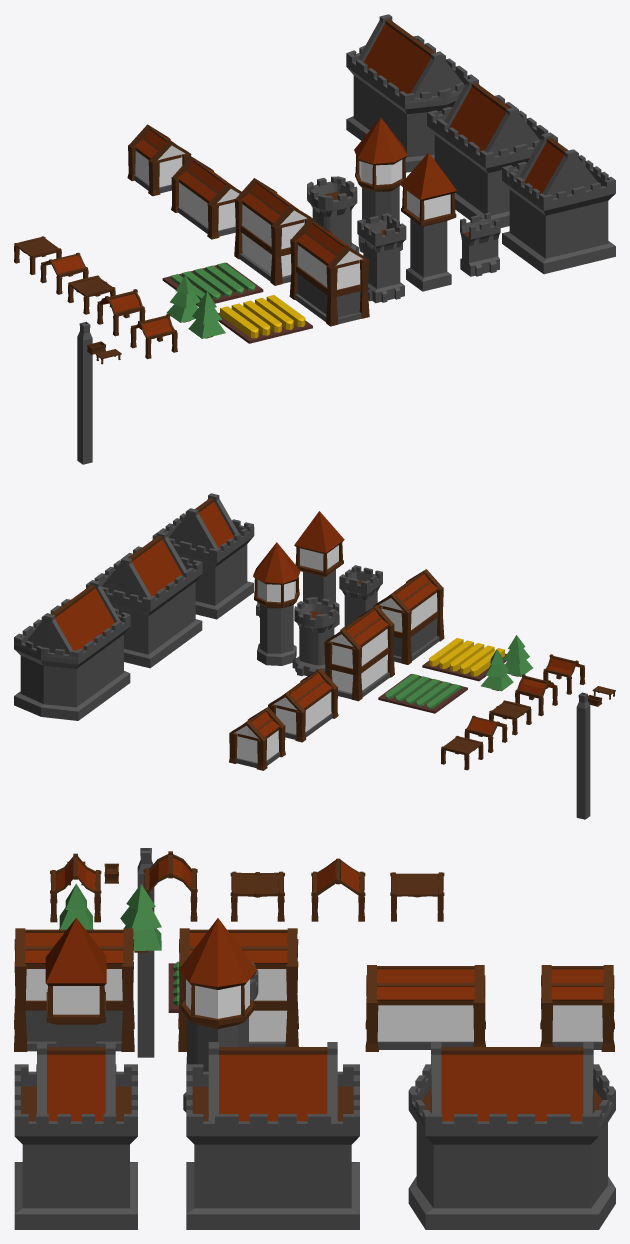
File: medival2.fbx
3 views of the same model, one above another, from view 1: azimuth 30°, elevation 25°; view 2: azimuth 150°, elevation 25°; view 3: azimuth 270°, elevation 25° (orthographic). The views are drawn at different scales.
Visible parts, largest first — view 1: Castle box, Castle rect rnd, Castle rect, house 2st st, tower wd, house 2st, tower wd rnd, house, tower st, house small, farm wheat, tower st rnd (+10 smaller); view 2: Castle rect rnd, Castle rect, Castle box, house 2st, tower wd rnd, house 2st st, tower wd, house, house small, tower st rnd, farm vegy, farm wheat (+9 smaller); view 3: Castle rect rnd, Castle rect, Castle box, house, house 2st st, tower wd rnd, house 2st, tower wd, house small, box.002, Tree Pine rot, tent triangular (+6 smaller).
Boxes of the visible parts, x1,y1,x2,y2 form: Castle box: (502,132,615,274); Castle rect rnd: (346,14,476,172); Castle rect: (427,77,557,227); house 2st st: (289,218,369,326); tower wd: (400,152,456,291); house 2st: (234,178,313,285); tower wd rnd: (354,117,407,252); house: (171,156,241,239); tower st: (357,213,406,303); house small: (127,124,191,196); farm wheat: (218,295,312,343); tower st rnd: (307,176,359,252); Castle rect rnd: (14,580,130,720); Castle rect: (86,531,202,668); Castle box: (152,493,254,619); house 2st: (324,605,394,701); tower wd rnd: (253,542,300,665); house 2st st: (373,569,444,664); tower wd: (294,511,344,628); house: (268,668,338,742); house small: (229,707,285,770); tower st rnd: (292,597,339,676); farm vegy: (378,674,467,713); farm wheat: (422,638,506,681); Castle rect rnd: (408,1042,615,1229); Castle rect: (186,1042,359,1229); Castle box: (14,1042,137,1229); house: (365,965,485,1051); house 2st st: (14,928,134,1051); tower wd rnd: (178,918,257,1112); house 2st: (178,928,298,1051); tower wd: (45,918,106,1046); house small: (540,965,614,1051); box.002: (137,848,154,1057); Tree Pine rot: (120,884,161,952); tent triangular: (311,858,365,921).
Size of the model in its own units: 3167 by 1514 by 2247.
